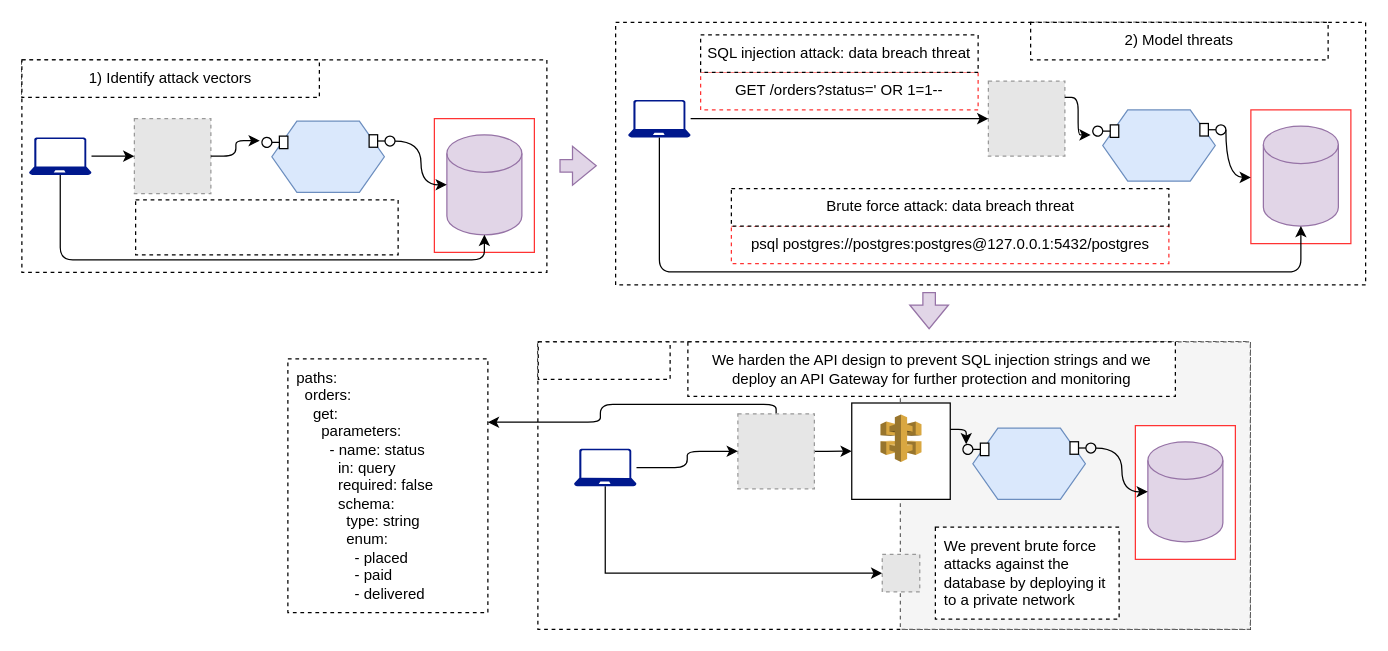
Some shapes in this 1388 by 651 pixel diagram are drawn without their labels. Grey dashed boxes stand in for pictures. Each missing label, with the centre of its shape:
1) Secure: (603,360)
API Gateway: (900,437)
Hackers can attack our application through the API and the database: (266,227)
